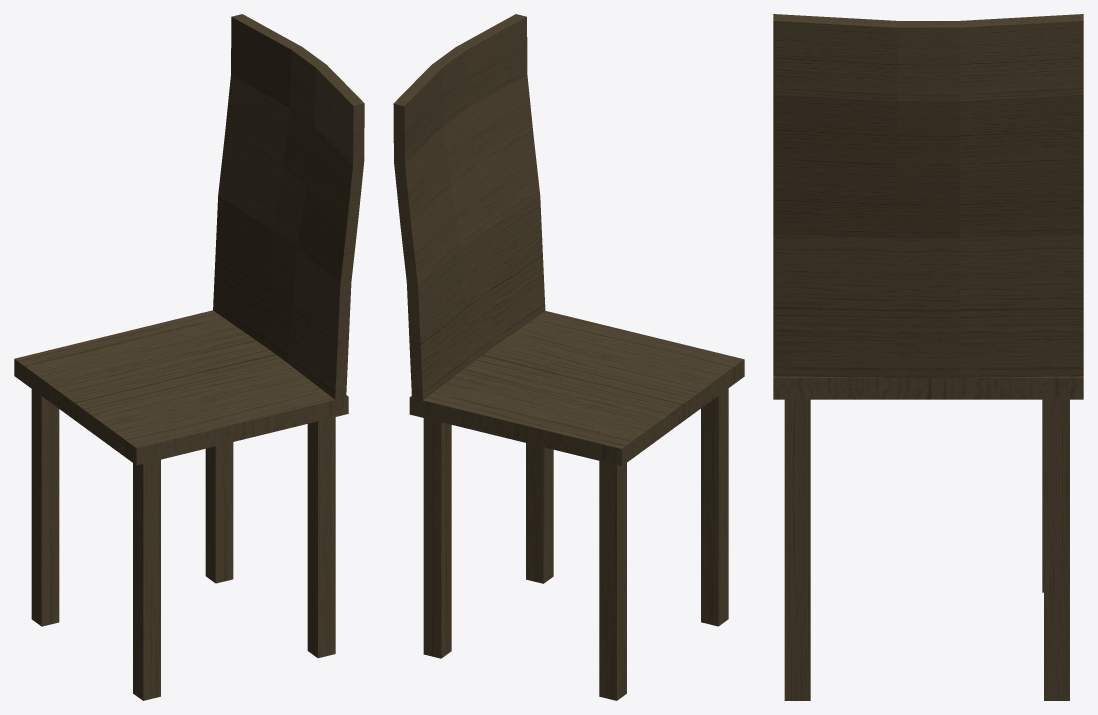
Rendered from stuhl.fbx.
3 views of the same model, side by side, from view 1: azimuth 30°, elevation 25°; view 2: azimuth 150°, elevation 25°; view 3: azimuth 270°, elevation 25° (orthographic). The views are drawn at different scales.
Parts seen in each view (by area): view 1: stuhl; view 2: stuhl; view 3: stuhl.
Boxes of the visible parts, x1,y1,x2,y2 form: stuhl: [14, 14, 364, 700]; stuhl: [393, 14, 744, 700]; stuhl: [773, 14, 1083, 700].
Size of the model in its own units: 67.75 by 148 by 60.
